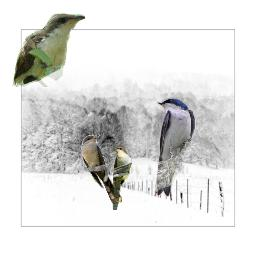Cuckoo: (12, 13, 85, 87), (81, 135, 122, 204), (111, 146, 132, 210)
Swallow: (153, 97, 196, 197)
